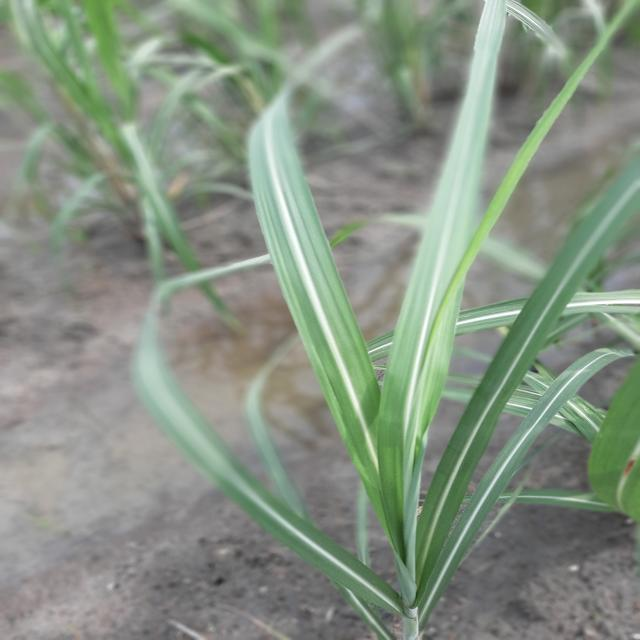Sugarcane: (4, 1, 638, 638)
